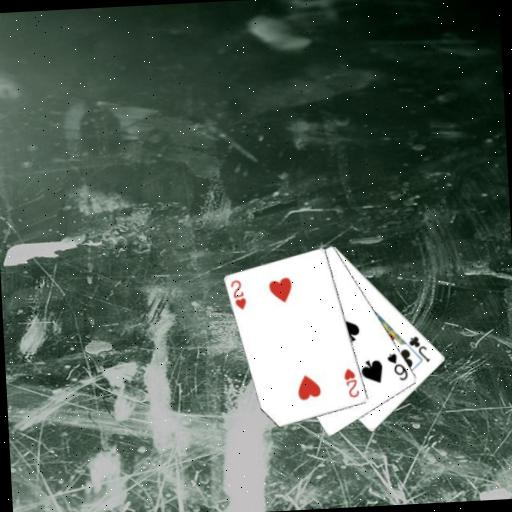2H: (227, 277, 248, 313), (341, 365, 361, 400)
6S: (384, 350, 410, 384)
JC: (405, 332, 432, 365)
